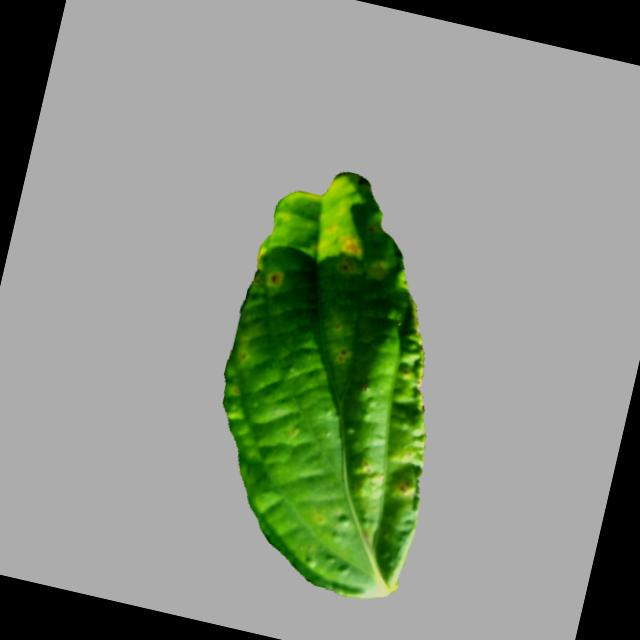yellow-mottle-virus: (164, 152, 506, 611)
